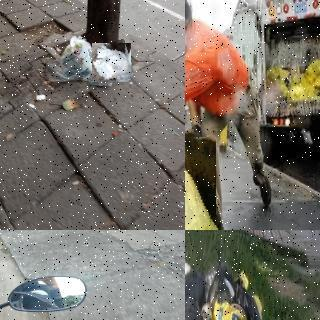Garbage: (185, 132, 225, 230), (57, 33, 97, 80), (91, 41, 133, 84), (232, 276, 264, 320), (185, 268, 205, 314)
